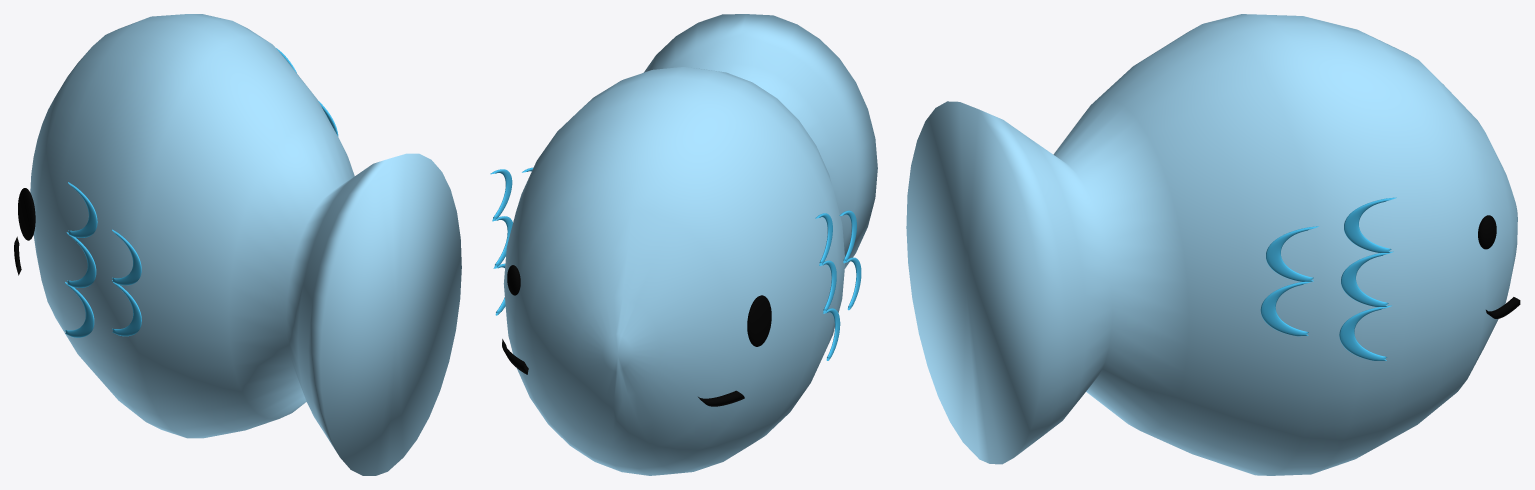
Rendered from haru_item.gltf.
3 views of the same model, side by side, from view 1: azimuth 30°, elevation 25°; view 2: azimuth 150°, elevation 25°; view 3: azimuth 270°, elevation 25° (orthographic). The views are drawn at different scales.
Visible parts, largest first — view 1: Sphere.004, NurbsCurve.004, Sphere.001; view 2: Sphere.004, NurbsCurve.004, Sphere.001, NurbsCurve.006, NurbsCurve.002; view 3: Sphere.004, NurbsCurve.006.
Boxes of the visible parts, x1,y1,x2,y2 form: Sphere.004: [30, 14, 461, 475]; NurbsCurve.004: [65, 182, 141, 337]; Sphere.001: [18, 188, 35, 240]; Sphere.004: [503, 14, 877, 475]; NurbsCurve.004: [815, 210, 861, 360]; Sphere.001: [747, 295, 771, 346]; NurbsCurve.006: [490, 167, 533, 315]; NurbsCurve.002: [698, 390, 744, 406]; Sphere.004: [906, 14, 1517, 475]; NurbsCurve.006: [1260, 197, 1396, 360].
Size of the model in its own units: 1.95 by 2.4 by 3.02.
